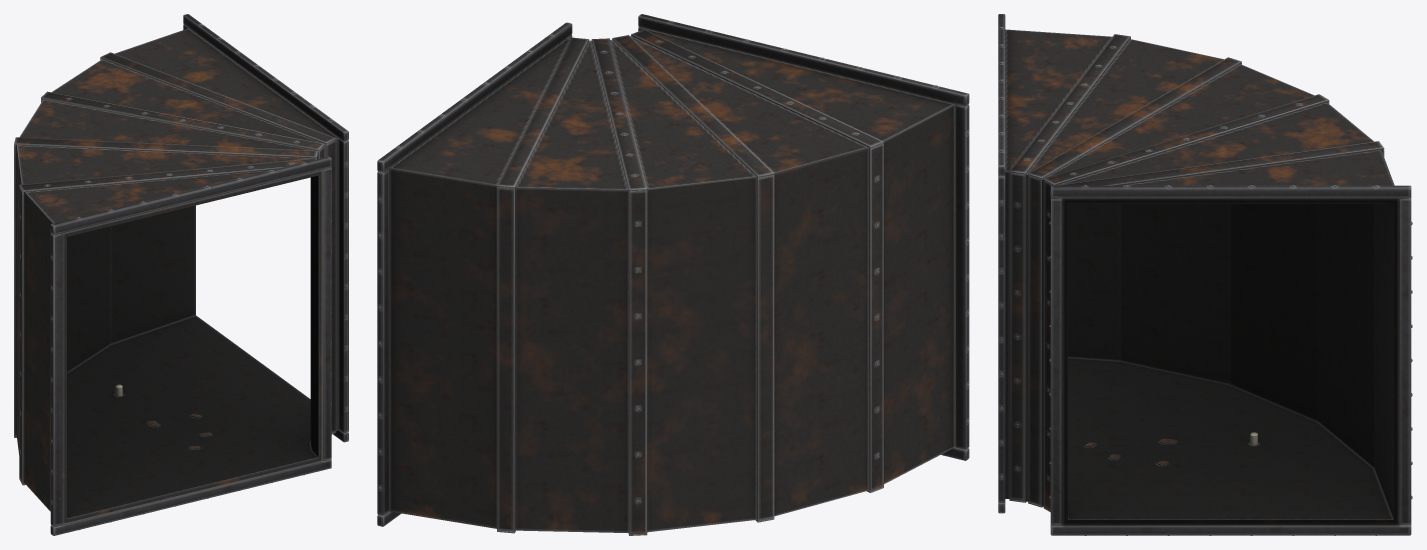
The model's file is DuctCorner.fbx.
3 views of the same model, side by side, from view 1: azimuth 30°, elevation 25°; view 2: azimuth 150°, elevation 25°; view 3: azimuth 270°, elevation 25° (orthographic). The views are drawn at different scales.
Parts seen in each view (by area): view 1: DuctCorner; view 2: DuctCorner; view 3: DuctCorner.
Part boxes in pixels (left/top/right/bottom): DuctCorner: left=14, top=14, right=348, bottom=535; DuctCorner: left=377, top=14, right=969, bottom=535; DuctCorner: left=998, top=14, right=1412, bottom=535.
Bounding box in the file's own units: 712 × 665 × 712.
